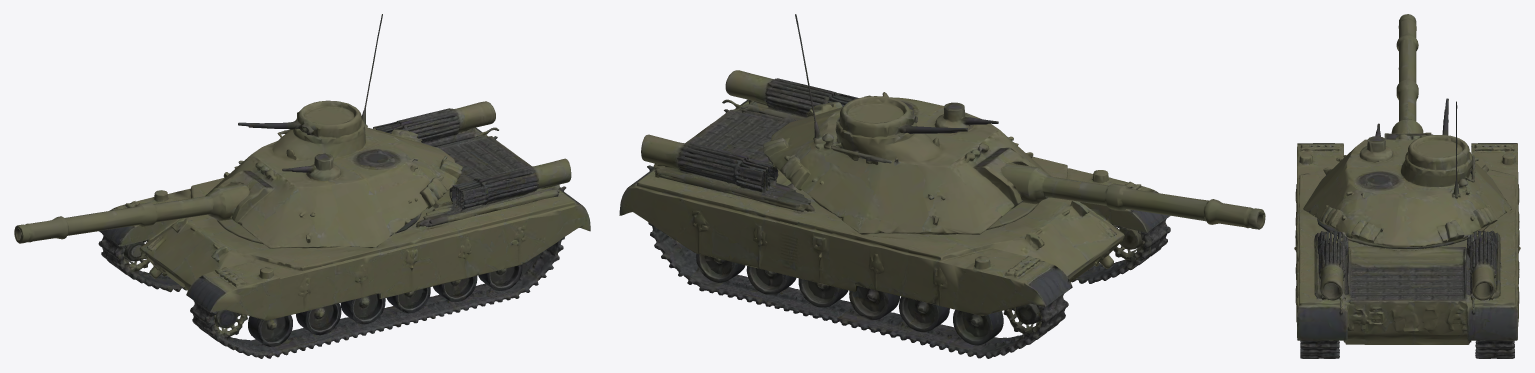
Rendered from tank.glb.
The picture shows the model from 3 angles, left to right: view 1: azimuth 30°, elevation 25°; view 2: azimuth 150°, elevation 25°; view 3: azimuth 270°, elevation 25°; orthographic projection. The views are drawn at different scales.
Size of the model in its own units: 1.9 by 0.8439 by 0.751.
1 material, 1 textured.
